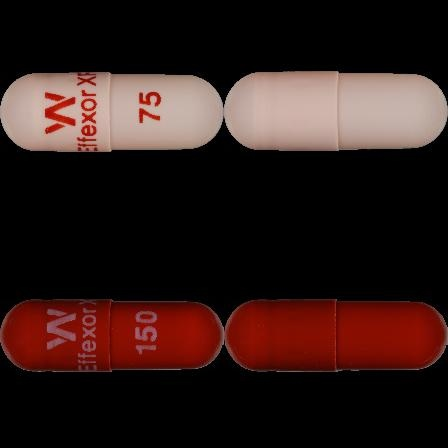16590-086: (0, 0, 224, 224)
